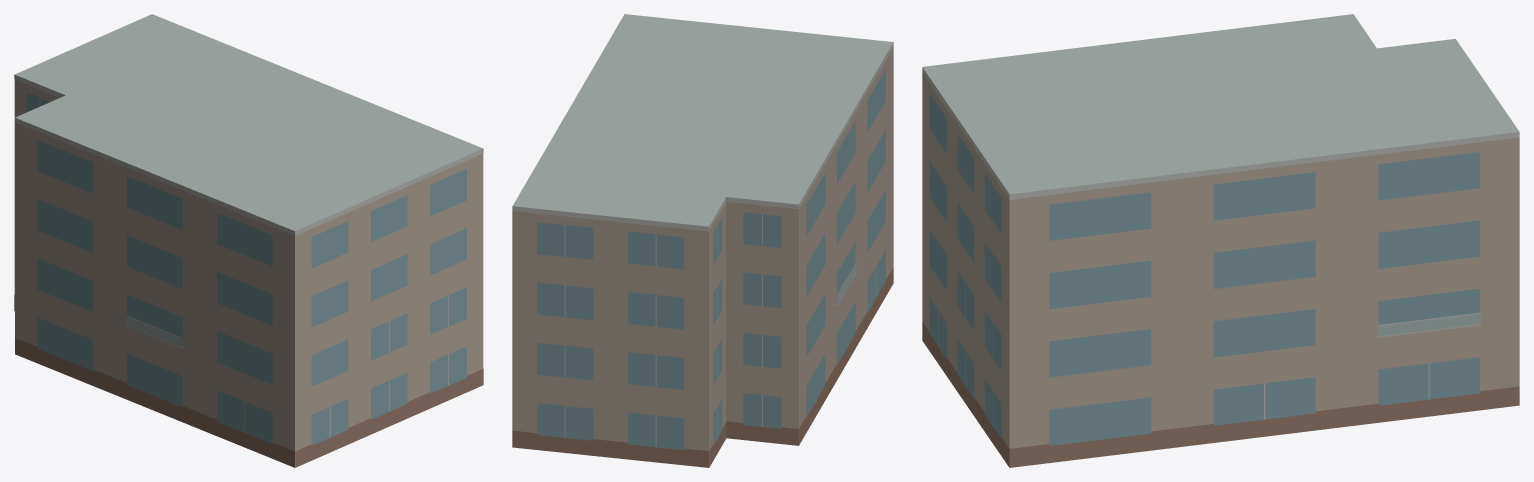
The model's file is residential-75273e6f-338c-4aba-a5af-107fc365ae8e.glb.
3 renders of one model, left to right at view 1: azimuth 30°, elevation 25°; view 2: azimuth 150°, elevation 25°; view 3: azimuth 270°, elevation 25°, orthographic. The views are drawn at different scales.
Parts seen in each view (by area): view 1: residential-75273e6f-338c-4aba-a5af-107fc365ae8e.tmp; view 2: residential-75273e6f-338c-4aba-a5af-107fc365ae8e.tmp; view 3: residential-75273e6f-338c-4aba-a5af-107fc365ae8e.tmp.
Boxes of the visible parts, left/top/right/bottom form: residential-75273e6f-338c-4aba-a5af-107fc365ae8e.tmp: left=14, top=14, right=483, bottom=467; residential-75273e6f-338c-4aba-a5af-107fc365ae8e.tmp: left=512, top=14, right=893, bottom=467; residential-75273e6f-338c-4aba-a5af-107fc365ae8e.tmp: left=922, top=14, right=1519, bottom=467.
Size of the model in its own units: 17.26 by 12.2 by 24.16.
